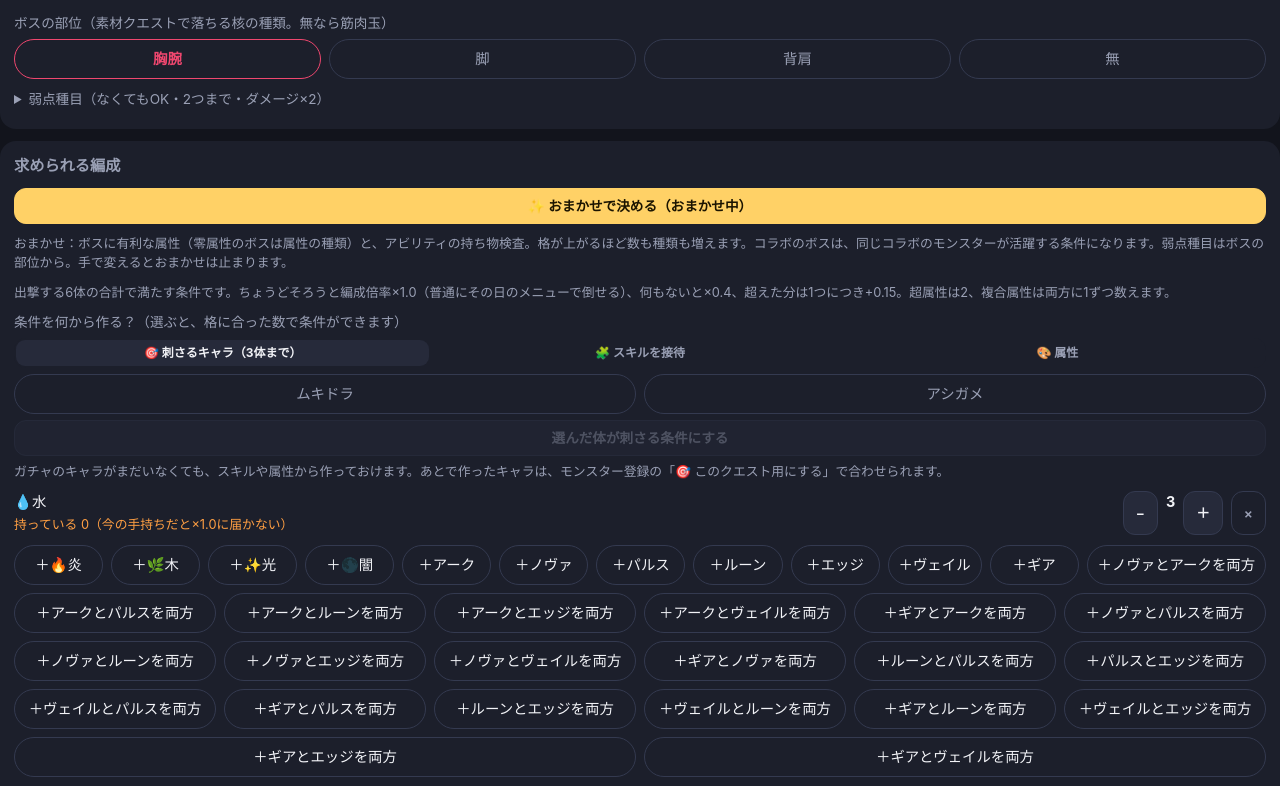
画面の表示 › クエスト作成：🎯活躍させたいモンスターを選ぶと条件ができ、手持ちで足りるか出る
(page scrolled)
Click the button "ムキドラ" at (325, 394), box [14,374,636,414]
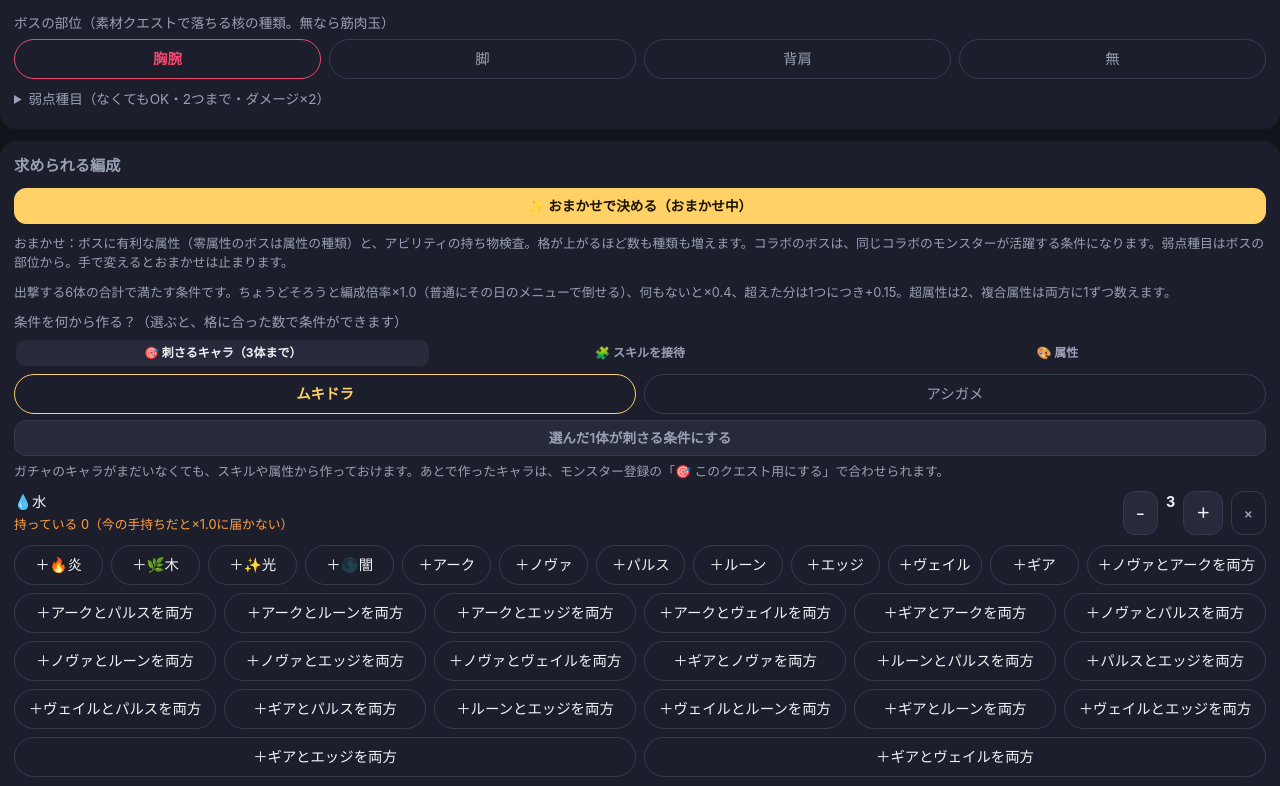
Click the button "選んだ1体が刺さる条件にする" at (640, 438), box [14,420,1266,456]
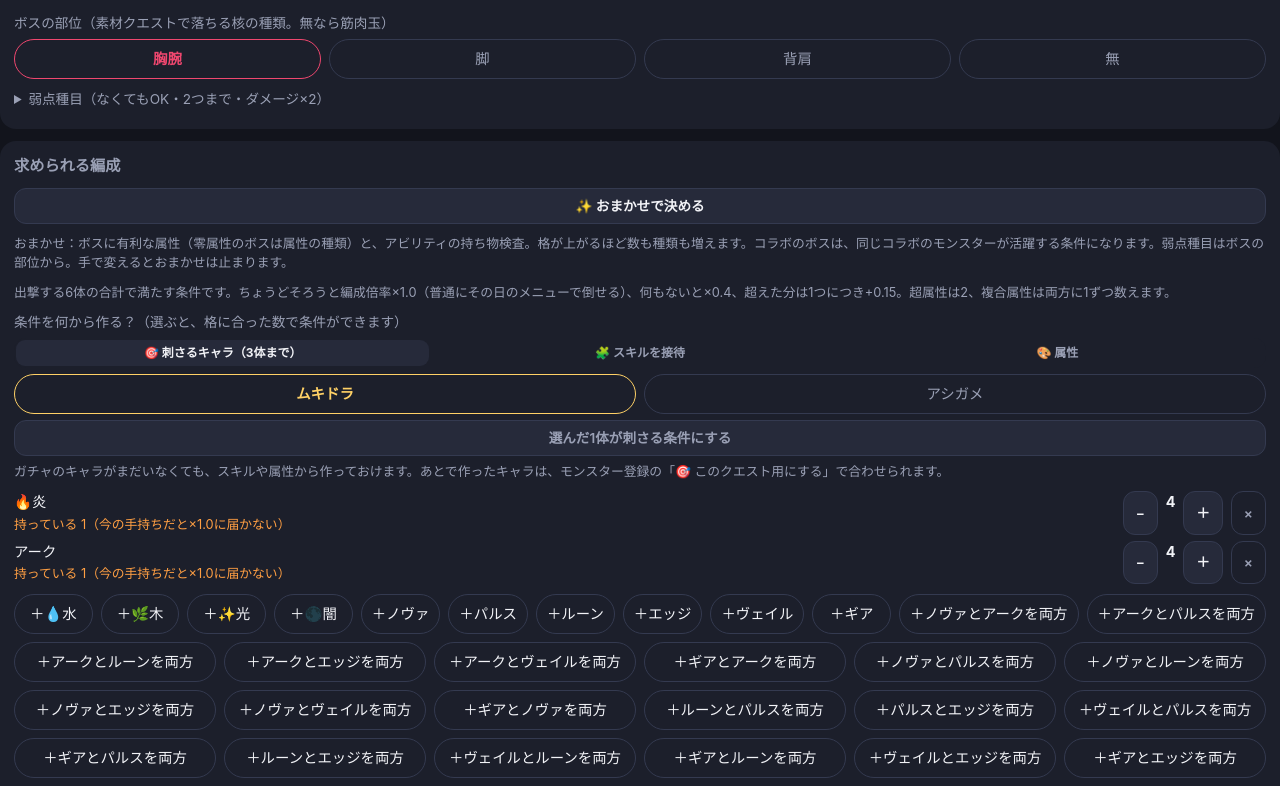
Expected: the text "🔥炎" is shown, [14,493,46,510]
Result: the text "持っている 1（今の手持ちだと×1.0に届かない）" is shown at [14,517,290,532]
